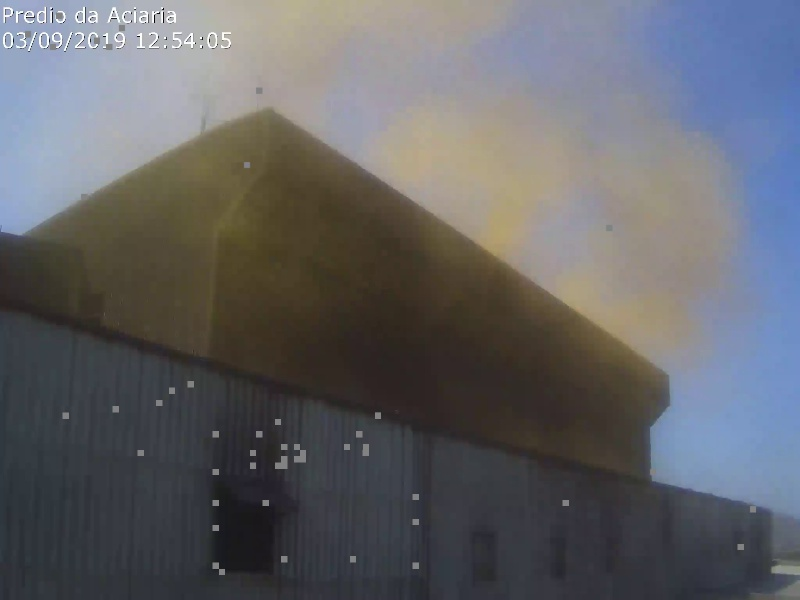Pessimo: (153, 8, 756, 406)
